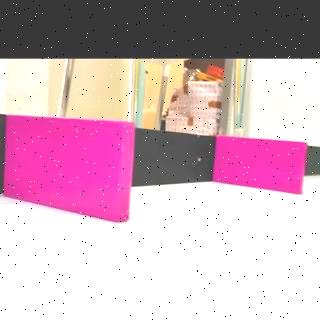xparking: (8, 121, 128, 211), (218, 142, 306, 190)
